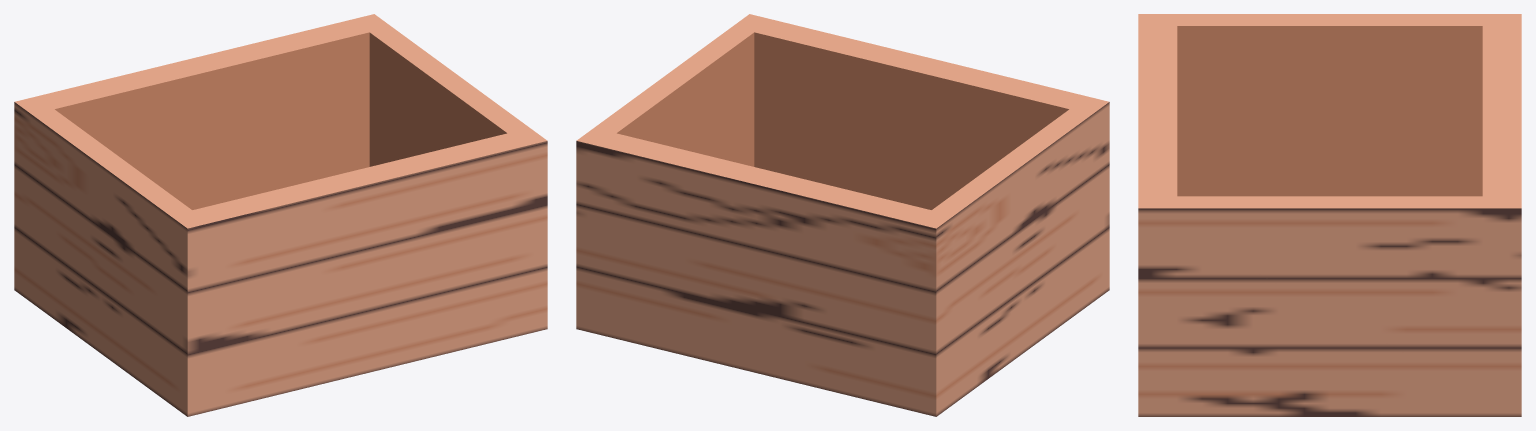
Rendered from Compostadora.fbx.
3 renders of one model, left to right at view 1: azimuth 30°, elevation 25°; view 2: azimuth 150°, elevation 25°; view 3: azimuth 270°, elevation 25°, orthographic. The views are drawn at different scales.
Parts seen in each view (by area): view 1: Cube.002; view 2: Cube.002; view 3: Cube.002.
Part boxes in pixels (left/top/right/bottom): Cube.002: left=14, top=14, right=547, bottom=416; Cube.002: left=576, top=14, right=1109, bottom=416; Cube.002: left=1138, top=14, right=1521, bottom=416.
Size of the model in its own units: 600 by 500 by 300.
1 material, 1 textured.
